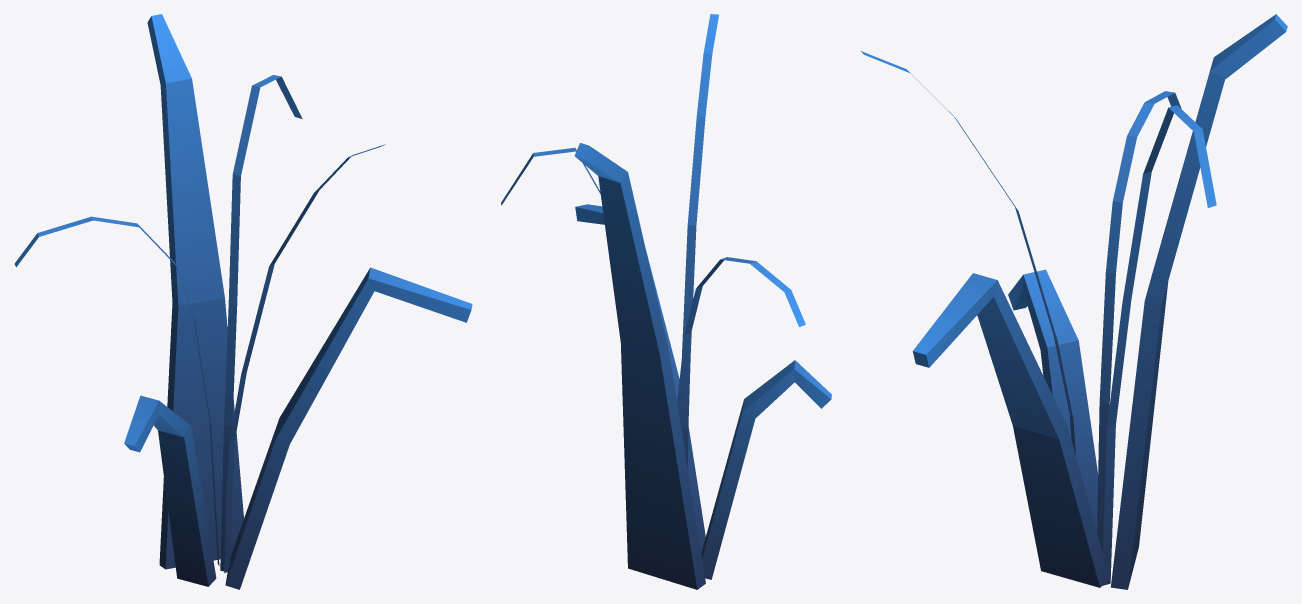
File: BlueGrass1.fbx
3 views of the same model, side by side, from view 1: azimuth 30°, elevation 25°; view 2: azimuth 150°, elevation 25°; view 3: azimuth 270°, elevation 25° (orthographic). The views are drawn at different scales.
Parts seen in each view (by area): view 1: BlueGrass1; view 2: BlueGrass1; view 3: BlueGrass1.
Boxes of the visible parts, box(x1,y1,x2,y2) form: BlueGrass1: box(14, 14, 472, 589); BlueGrass1: box(501, 14, 831, 589); BlueGrass1: box(861, 14, 1287, 589).
Bounding box in the file's own units: 132 × 182 × 123.
